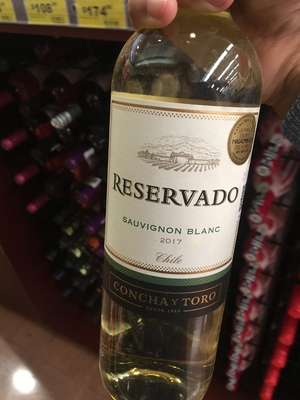reservado sauvignon blanc: (86, 29, 258, 400)
